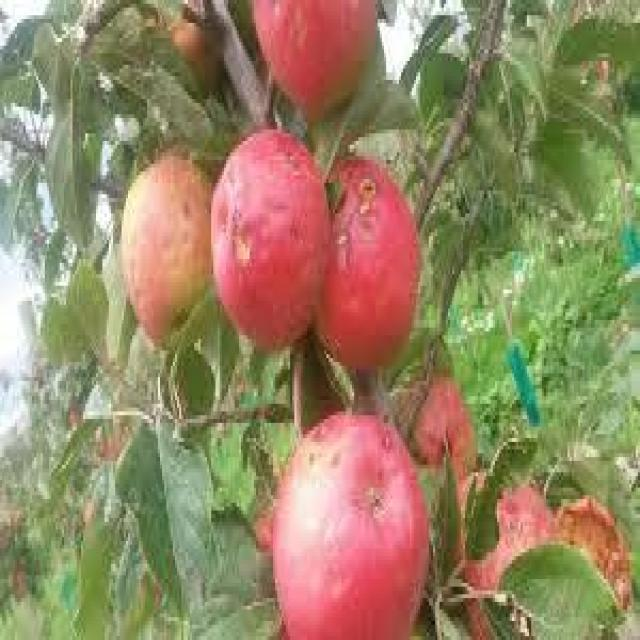apple: (258, 388, 429, 632), (220, 118, 328, 347), (113, 133, 203, 343), (341, 164, 416, 362), (245, 0, 378, 95)
